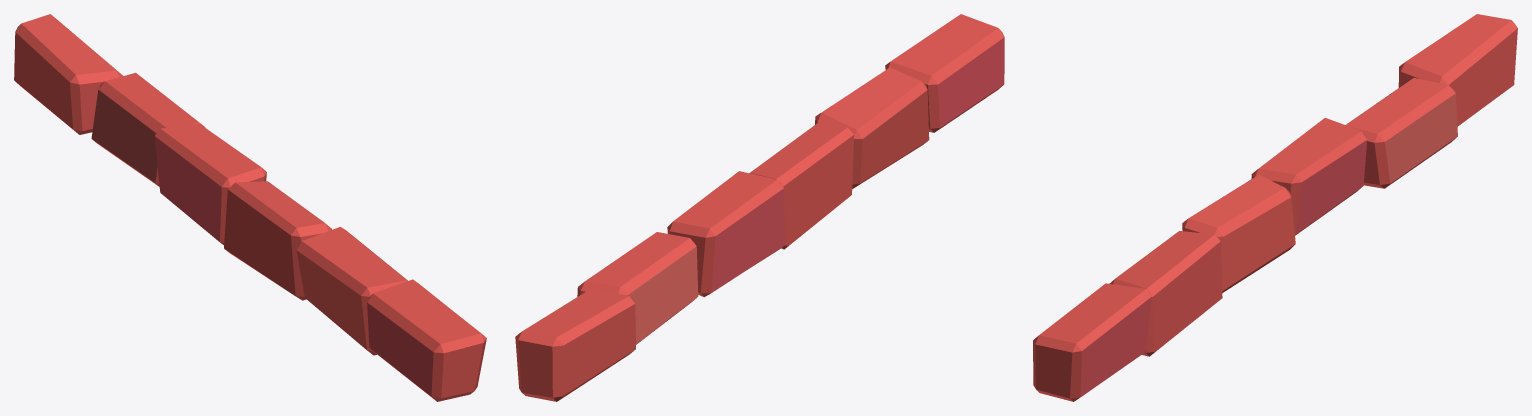
File: wallrow.fbx
3 views of the same model, side by side, from view 1: azimuth 30°, elevation 25°; view 2: azimuth 150°, elevation 25°; view 3: azimuth 330°, elevation 25° (orthographic). The views are drawn at different scales.
Visible parts, largest first — view 1: WallBottom; view 2: WallBottom; view 3: WallBottom.
Part boxes in pixels (<box>): WallBottom: <box>14,14,486,401</box>; WallBottom: <box>515,14,1004,401</box>; WallBottom: <box>1033,14,1517,401</box>.
Size of the model in its own units: 103 by 112 by 1207.
